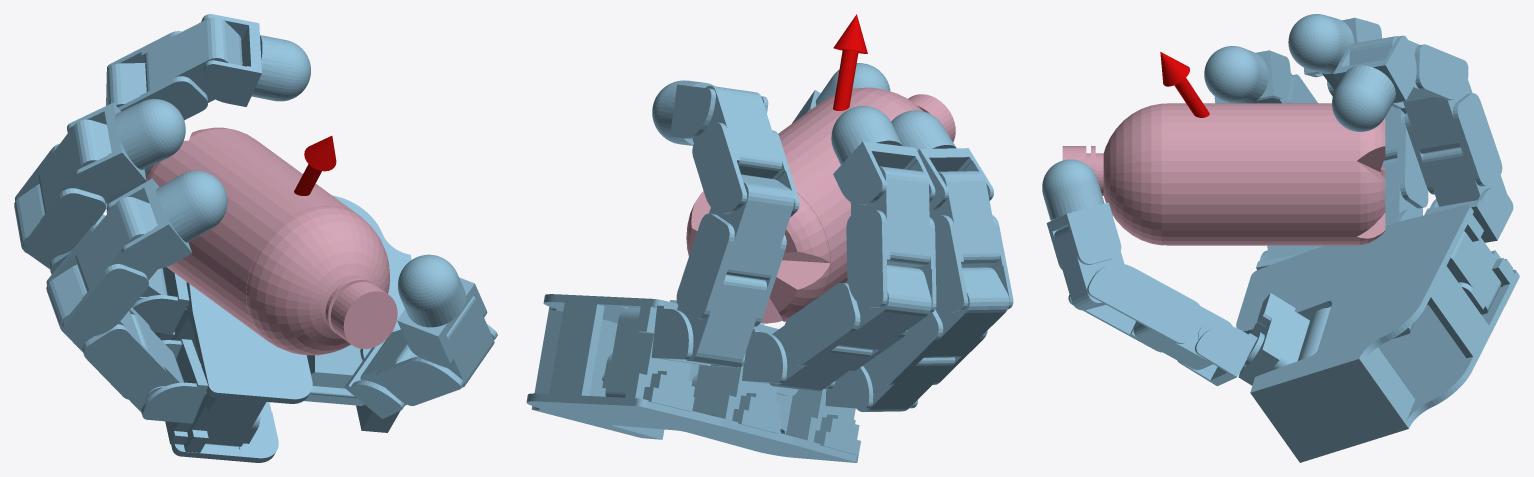
3 renders of one model, left to right at view 1: azimuth 30°, elevation 25°; view 2: azimuth 150°, elevation 25°; view 3: azimuth 270°, elevation 25°, orthographic. The views are drawn at different scales.
Visible parts, largest first — view 1: world, water_bottle.stl; view 2: world, water_bottle.stl; view 3: world, water_bottle.stl.
Part boxes in pixels (x1=…): world: x1=14, y1=14, x2=497, y2=462; water_bottle.stl: x1=143, y1=127, x2=397, y2=355; world: x1=526, y1=14, x2=1013, y2=462; water_bottle.stl: x1=686, y1=87, x2=955, y2=323; world: x1=1042, y1=14, x2=1519, y2=462; water_bottle.stl: x1=1062, y1=103, x2=1385, y2=245.
Bounding box in the file's own units: 0.1775 × 0.174 × 0.2021.
